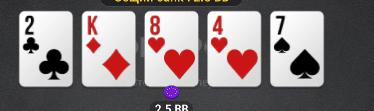2c: (21, 12, 70, 85)
4h: (209, 13, 260, 85)
7s: (272, 12, 323, 85)
8h: (146, 13, 197, 85)
Kd: (84, 13, 135, 86)
